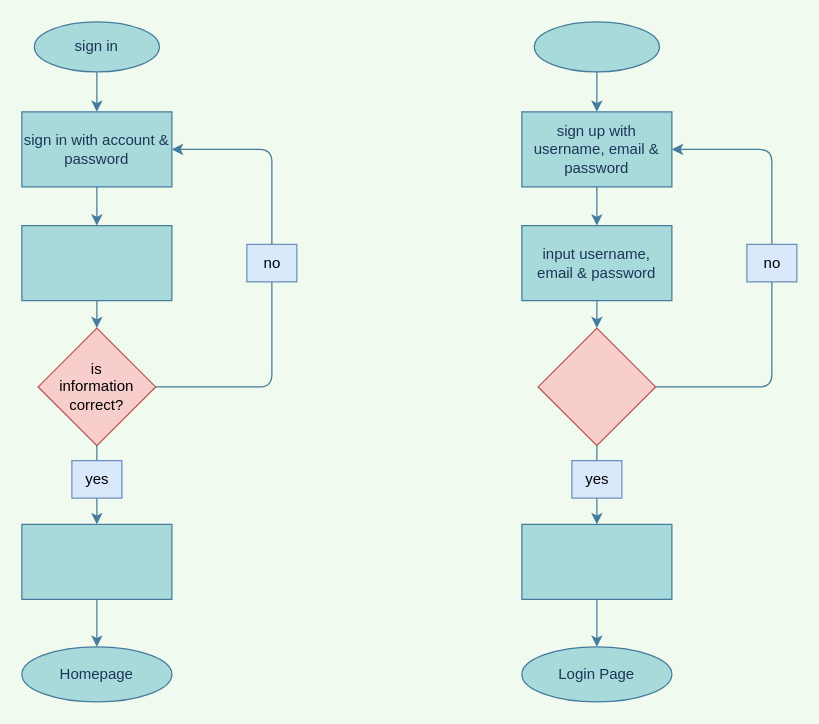
Some shapes in this 819 by 724 pixel diagram are drawn without their labels. The shapes that lost their labels are listed below. From the top down, each one's box as (x1, y1, x2, y2) in pixels, then its label:
(533, 21, 659, 72): sign up
(21, 224, 172, 301): input email & password
(537, 327, 656, 446): Data is relevant
(21, 523, 172, 599): Succesfully Sign In
(521, 523, 672, 599): Succesfully Sign Up
